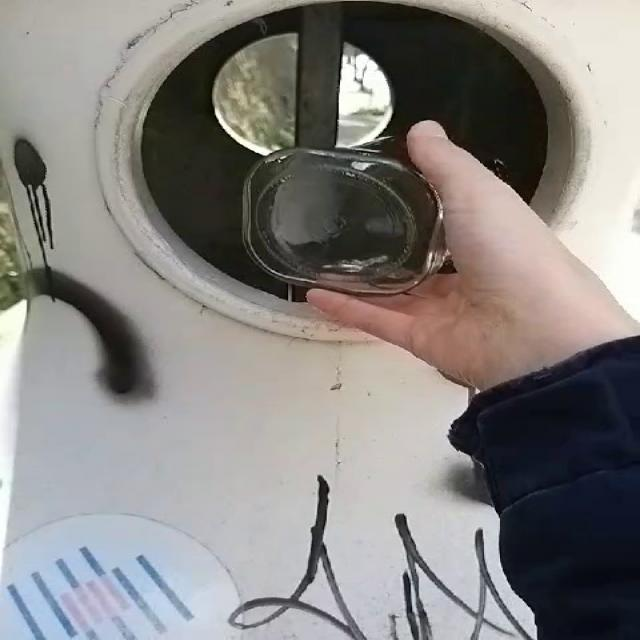Glass: (243, 147, 448, 295)
